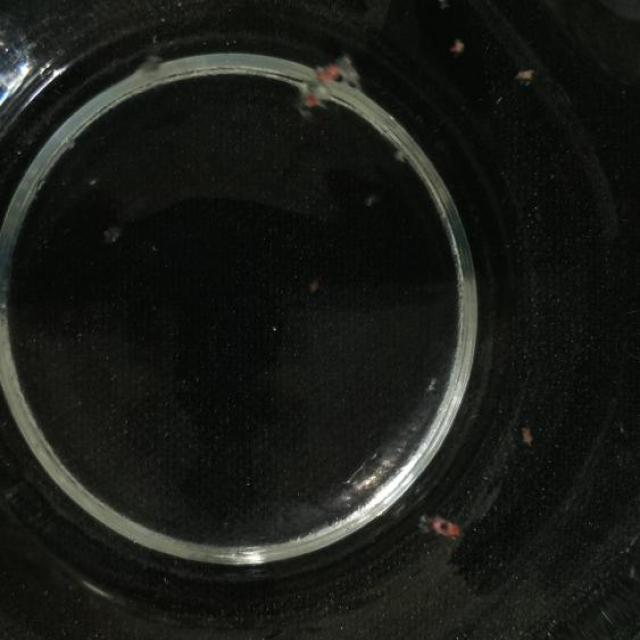fiber: (275, 54, 376, 128), (416, 499, 472, 541), (134, 29, 175, 72), (509, 64, 538, 90), (444, 33, 472, 56), (432, 0, 461, 10)
